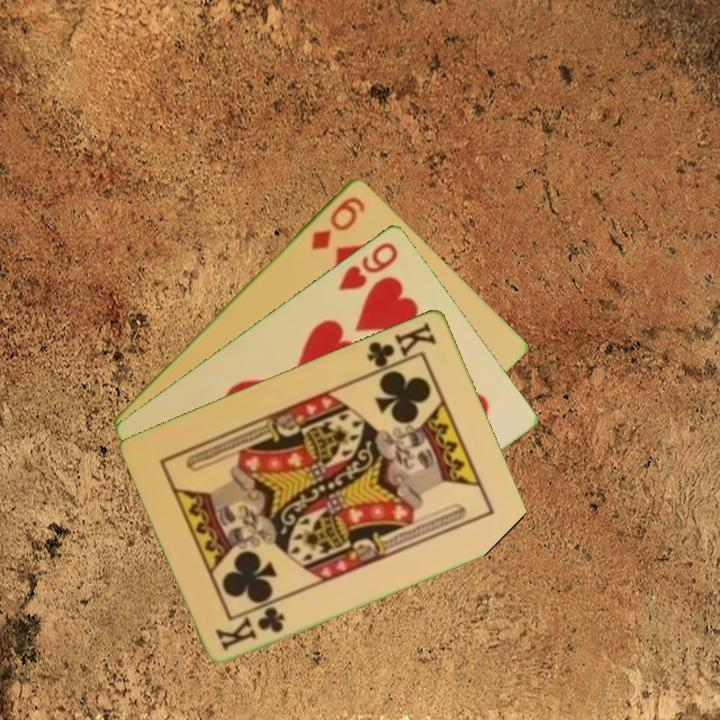6d: (307, 192, 368, 252)
9h: (334, 238, 401, 293)
Kc: (363, 317, 440, 376), (212, 602, 289, 653)
